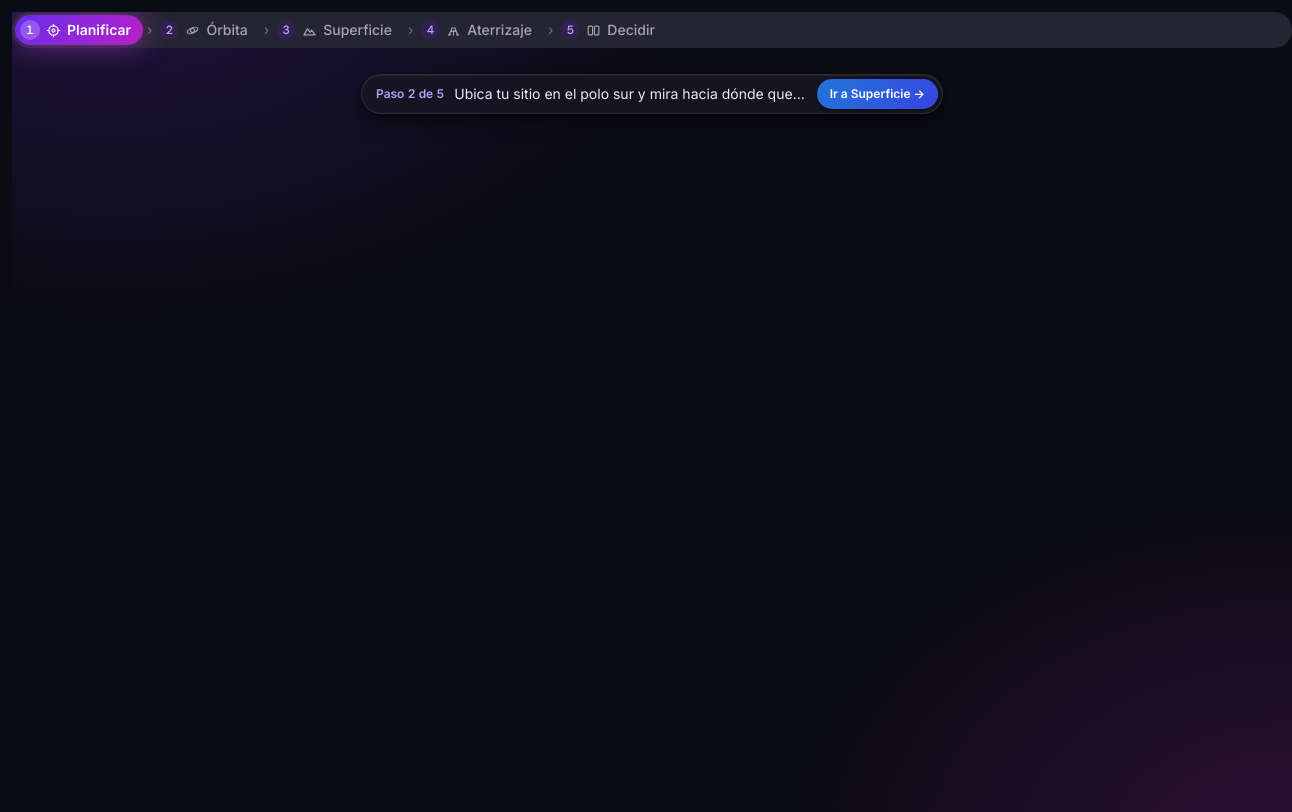
Test: planner flow › the step bar gains "Plan" as step 1 and the other steps leave it
Later steps or results of the test are not shown.
Expected: the button "1 Planificar" is shown, [15, 15, 143, 45]
Step 1. Click the button "3 Superficie" → (338, 30), box [271, 15, 404, 45]
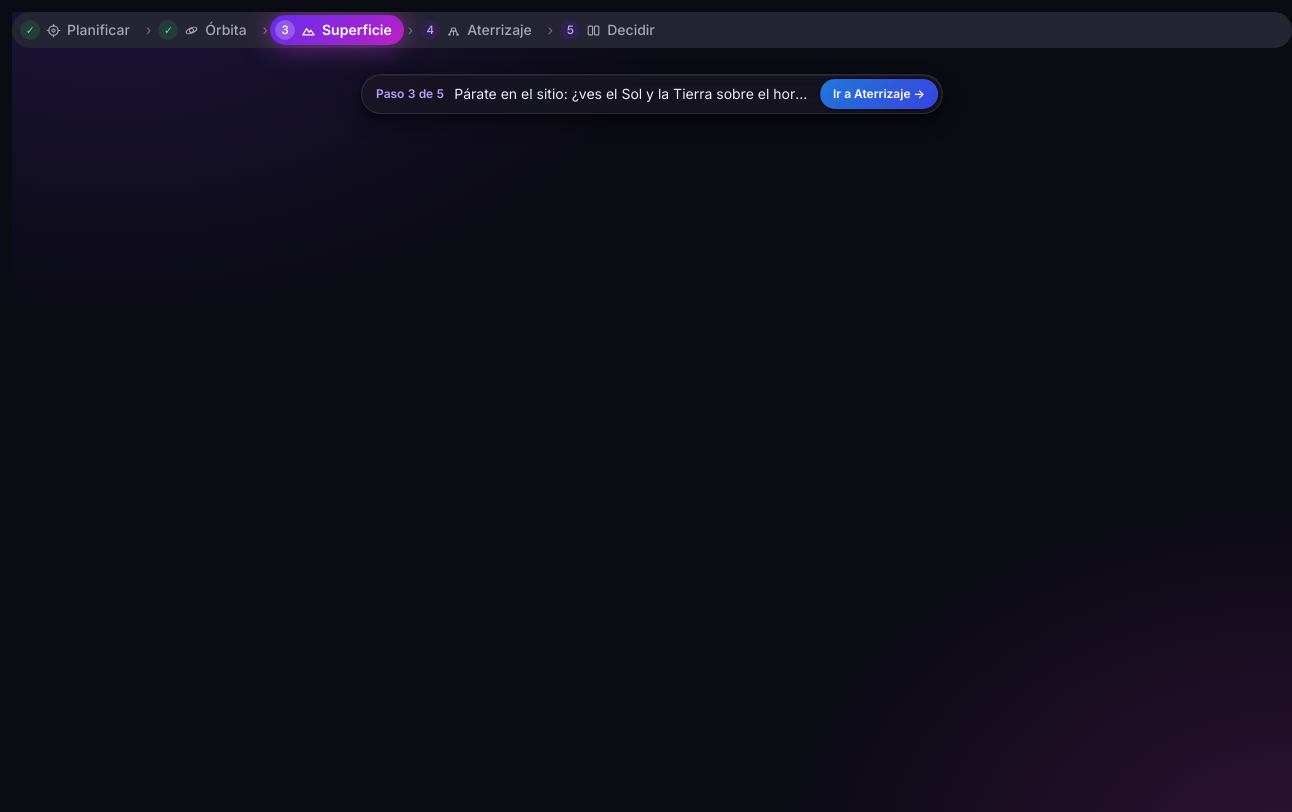
Now the text "Paso 3 de 5" is shown, box [376, 85, 444, 103]
